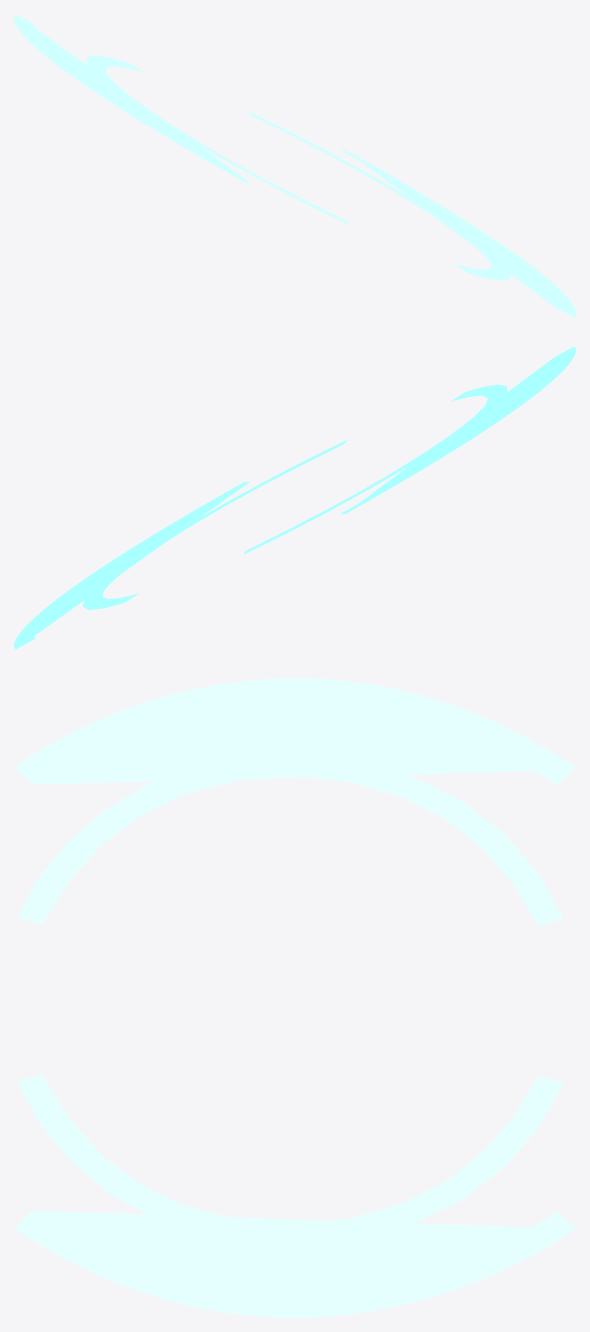
The model's file is Rune_Glow_11.fbx.
3 renders of one model, top to bottom at view 1: azimuth 30°, elevation 25°; view 2: azimuth 150°, elevation 25°; view 3: azimuth 270°, elevation 25°, orthographic. The views are drawn at different scales.
Parts seen in each view (by area): view 1: Rune11; view 2: Rune11; view 3: Rune11.
Part boxes in pixels (x1=…): Rune11: x1=14, y1=14, x2=575, y2=317; Rune11: x1=14, y1=346, x2=575, y2=649; Rune11: x1=14, y1=678, x2=575, y2=1317.
Bounding box in the file's own units: 0.5591 × 0.35 × 0.4864.
